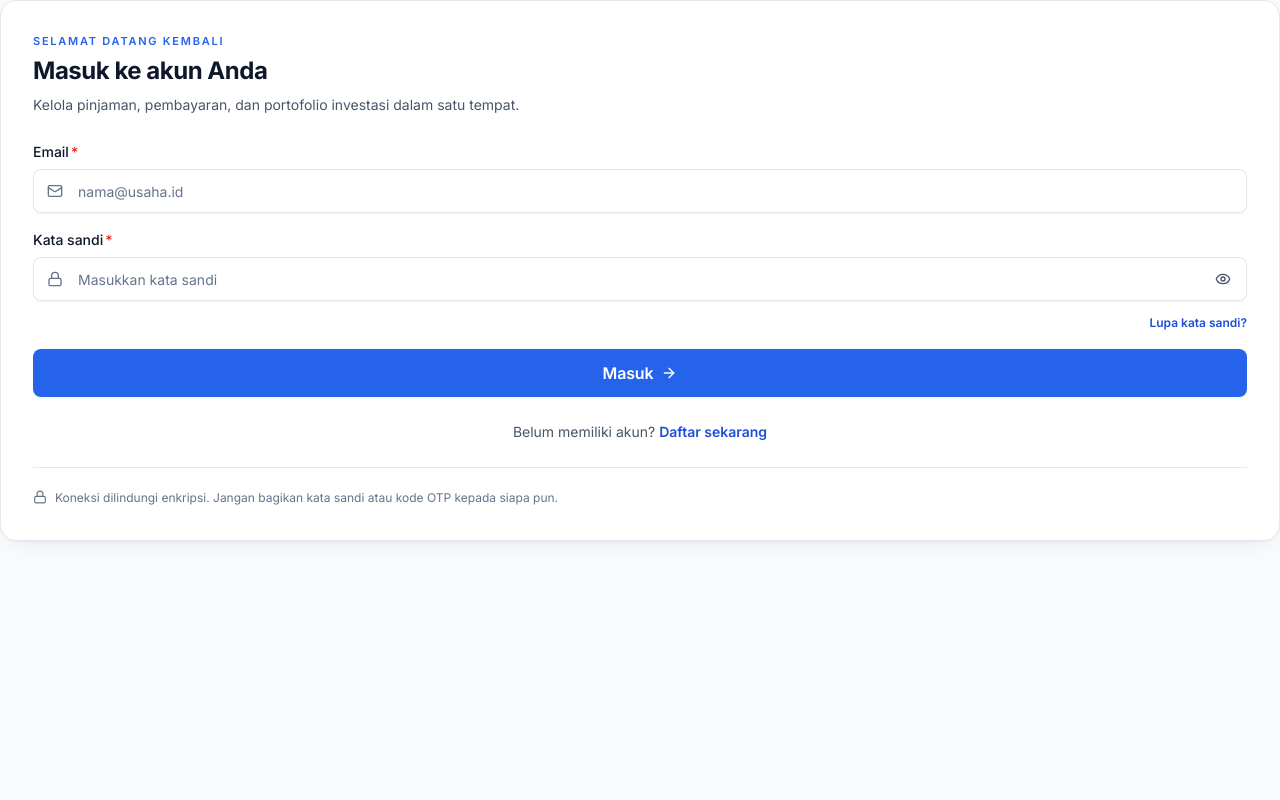
Test: LoginForm › shows validation errors for empty credentials
What coordinates should you click on to do the following:
click the button "Masuk"
I would click on:
 (640, 373)
Its box is [33,349,1247,397].
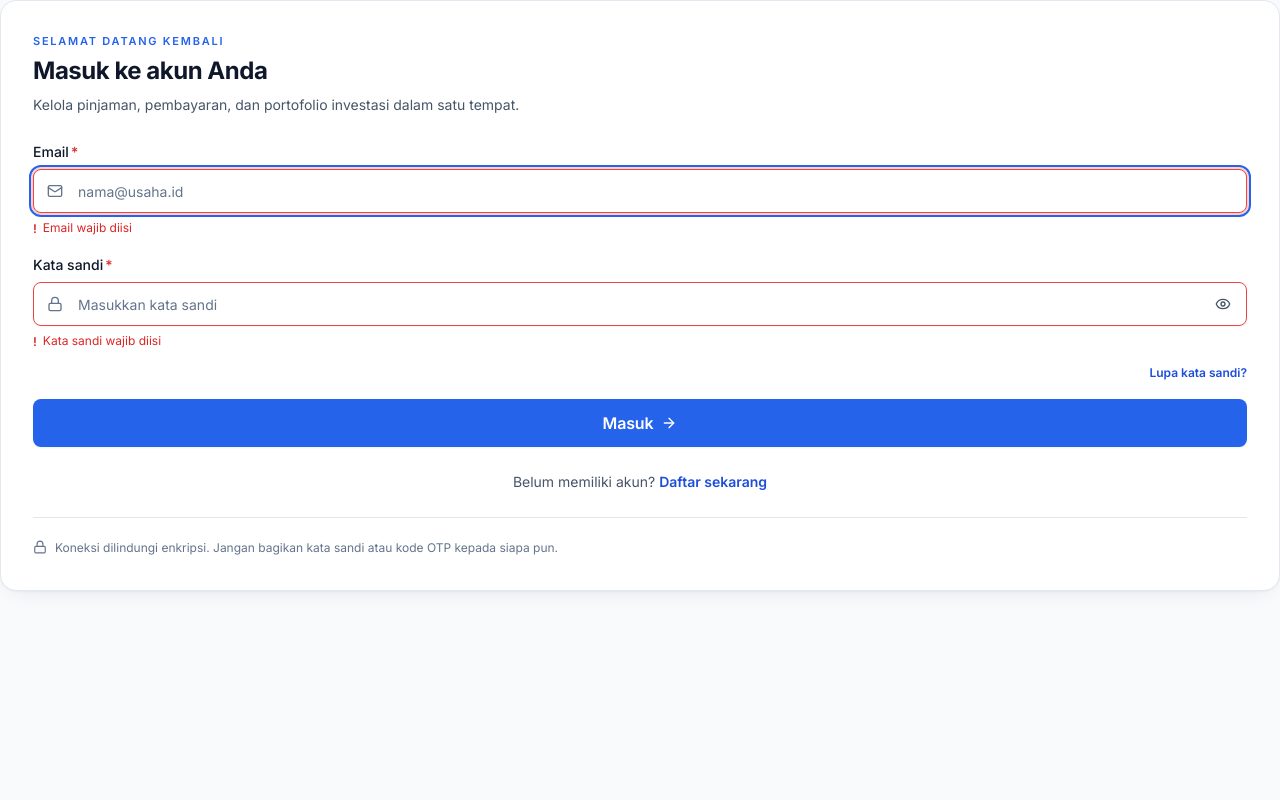
Check: the text "Email wajib diisi" is shown, box [43,219,132,237]
Check: the text "Kata sandi wajib diisi" is shown, box [43,332,161,350]
